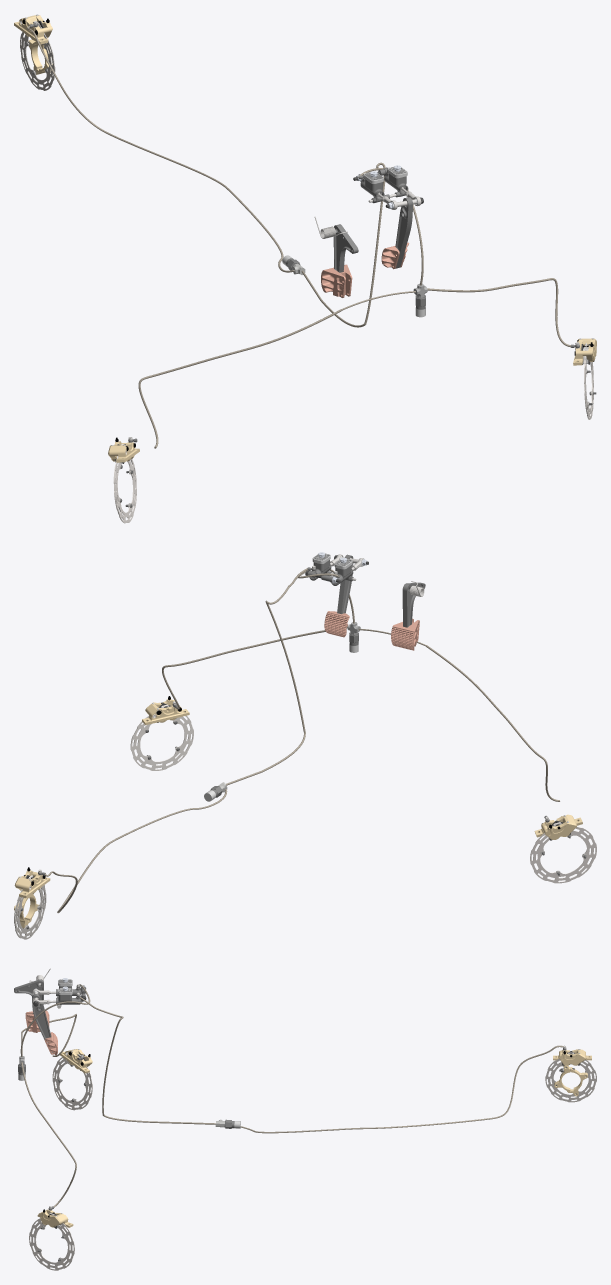
The model's file is TG22_Brake_Lines_Assembly.glb.
3 views of the same model, one above another, from view 1: azimuth 30°, elevation 25°; view 2: azimuth 150°, elevation 25°; view 3: azimuth 270°, elevation 25° (orthographic). The views are drawn at different scales.
Visible parts, largest first — view 1: Brake lines sketch-1, TG22 Pedal Bay Assembly-1/TG22 Pedals Assembly-1/TG22 Thrott (×2), TG22_Rotor_Rear-1, TG22 Pedal Bay Assembly-1/TG22 Pedals Assembly-1/TG22 Brake , TG22 Front Right Corner Assembly-1/TG22_Front_Rotor_Assembly; view 2: Brake lines sketch-1, TG22 Front Right Corner Assembly-1/TG22_Front_Rotor_Assembly, TG22 Front Left Corner Assembly-1/TG22_Front_Rotor_Assembly-, TG22 Pedal Bay Assembly-1/TG22 Pedals Assembly-1/TG22 Thrott (×2), TG22 Front Right Corner Assembly-1/TG22 Caliper Hardware Ass, TG22_Rotor_Rear-1, TG22 Front Left Corner Assembly-1/TG22 Caliper Hardware Asse, TG22 Caliper Hardware Assembly-1/TG22 Caliper-1, TG22 Pedal Bay Assembly-1/TG22 Pedals Assembly-1/TG22 Brake ; view 3: Brake lines sketch-1, TG22 Front Left Corner Assembly-1/TG22_Front_Rotor_Assembly-, TG22_Rotor_Rear-1, TG22 Front Right Corner Assembly-1/TG22_Front_Rotor_Assembly, TG22 Caliper Hardware Assembly-1/TG22 Caliper-1, TG22 Pedal Bay Assembly-1/TG22 Pedals Assembly-1/TG22 Brake , TG22 Front Right Corner Assembly-1/TG22 Caliper Hardware Ass.
Boxes of the visible parts, <box> form: Brake lines sketch-1: <box>27,25,570,448</box>; TG22 Pedal Bay Assembly-1/TG22 Pedals Assembly-1/TG22 Thrott (×2): <box>321,224,358,297</box>; TG22_Rotor_Rear-1: <box>20,28,55,90</box>; TG22 Pedal Bay Assembly-1/TG22 Pedals Assembly-1/TG22 Brake : <box>395,197,412,268</box>; TG22 Front Right Corner Assembly-1/TG22_Front_Rotor_Assembly: <box>113,456,136,523</box>; Brake lines sketch-1: <box>45,568,559,913</box>; TG22 Front Right Corner Assembly-1/TG22_Front_Rotor_Assembly: <box>530,826,596,883</box>; TG22 Front Left Corner Assembly-1/TG22_Front_Rotor_Assembly-: <box>130,715,193,770</box>; TG22 Pedal Bay Assembly-1/TG22 Pedals Assembly-1/TG22 Thrott (×2): <box>391,582,425,650</box>; TG22 Front Right Corner Assembly-1/TG22 Caliper Hardware Ass: <box>534,814,582,839</box>; TG22_Rotor_Rear-1: <box>14,885,46,939</box>; TG22 Front Left Corner Assembly-1/TG22 Caliper Hardware Asse: <box>142,699,189,725</box>; TG22 Caliper Hardware Assembly-1/TG22 Caliper-1: <box>14,870,50,898</box>; TG22 Pedal Bay Assembly-1/TG22 Pedals Assembly-1/TG22 Brake : <box>324,611,349,637</box>; Brake lines sketch-1: <box>20,984,563,1207</box>; TG22 Front Left Corner Assembly-1/TG22_Front_Rotor_Assembly-: <box>29,1218,74,1270</box>; TG22_Rotor_Rear-1: <box>545,1059,596,1102</box>; TG22 Front Right Corner Assembly-1/TG22_Front_Rotor_Assembly: <box>52,1057,92,1110</box>; TG22 Caliper Hardware Assembly-1/TG22 Caliper-1: <box>553,1049,591,1065</box>; TG22 Pedal Bay Assembly-1/TG22 Pedals Assembly-1/TG22 Brake : <box>32,994,52,1052</box>; TG22 Front Right Corner Assembly-1/TG22 Caliper Hardware Ass: <box>59,1049,92,1073</box>.
Bounding box in the file's own units: 1.32 × 0.7443 × 1.81.
